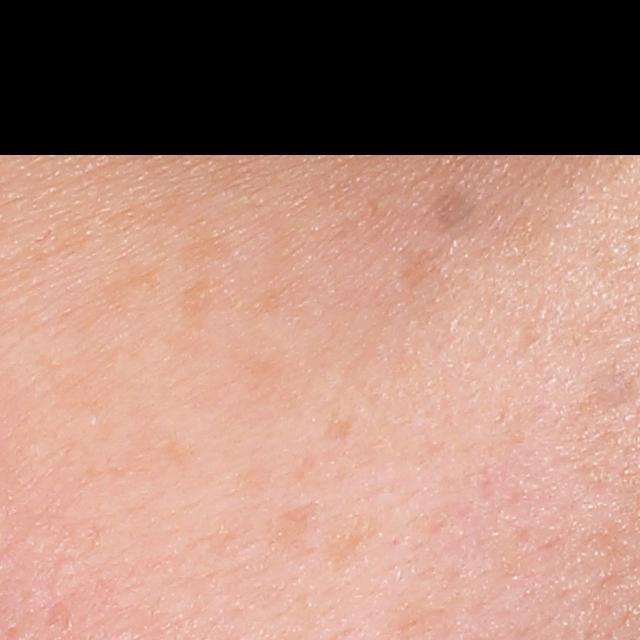melasma: (233, 269, 310, 325), (178, 217, 250, 271), (399, 244, 453, 312), (176, 276, 231, 321)
